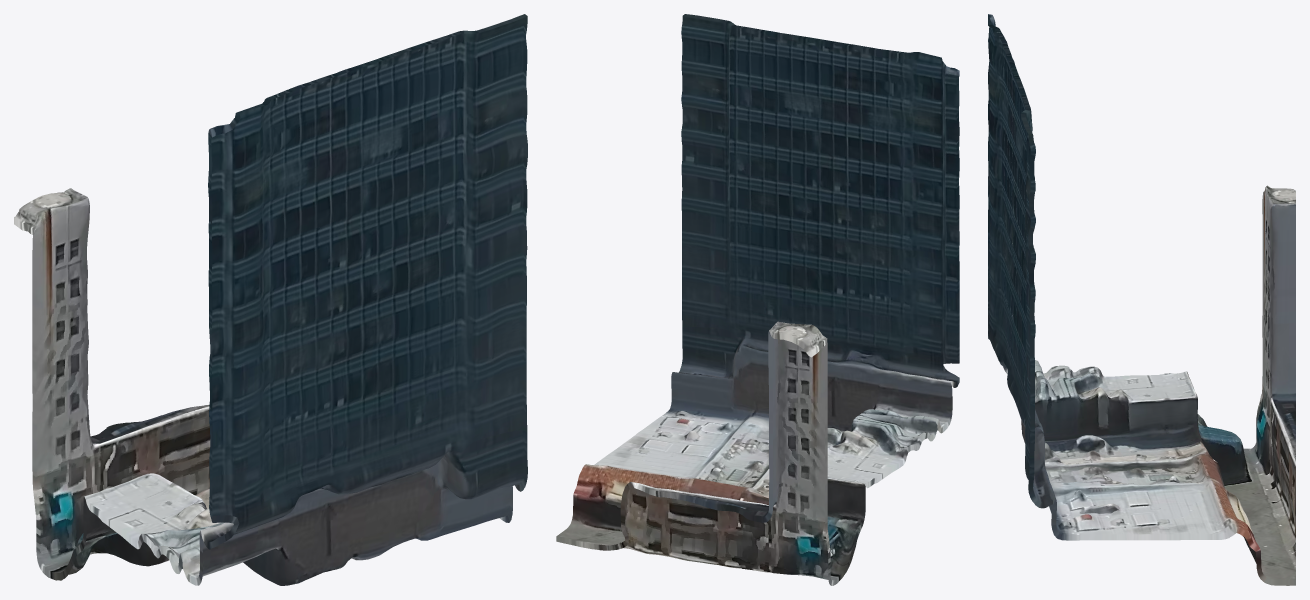
Rendered from z20-167761-405236-h0-yup-uvflip-v3-world.glb.
3 renders of one model, left to right at view 1: azimuth 30°, elevation 25°; view 2: azimuth 150°, elevation 25°; view 3: azimuth 270°, elevation 25°, orthographic. The views are drawn at different scales.
Size of the model in its own units: 30.16 by 49.04 by 30.32.
Materials: 1 (1 with a texture image).
